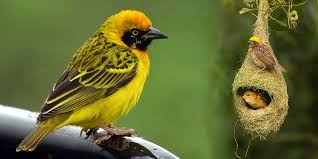target: (16, 2, 175, 153)
